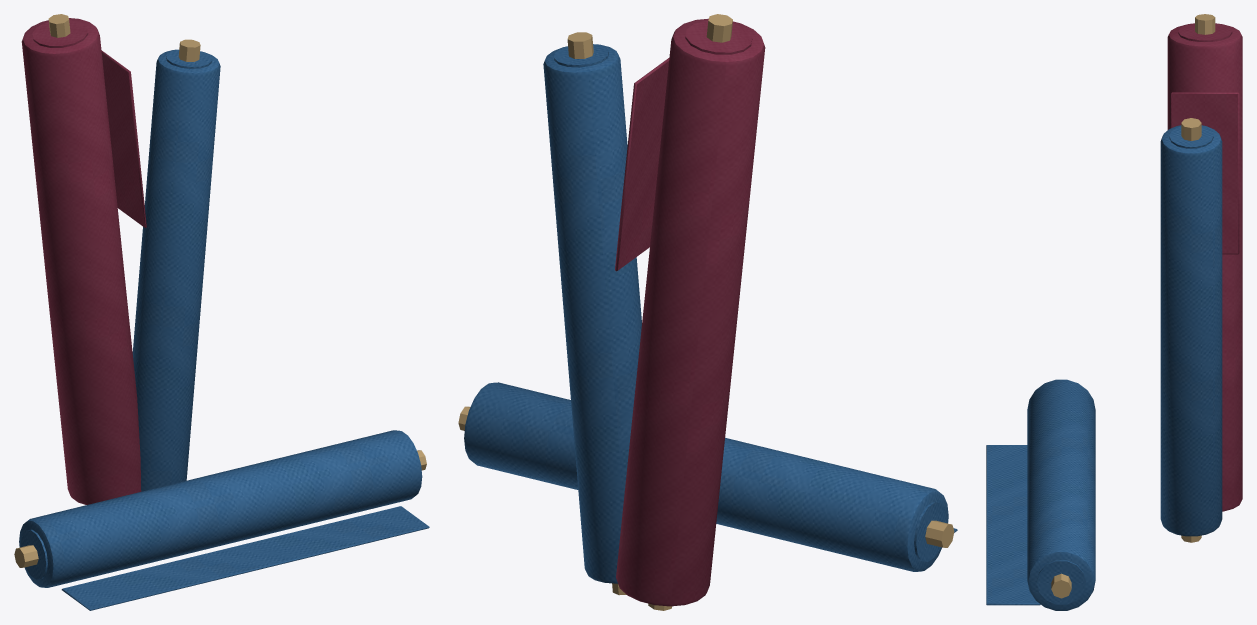
The model's file is rolos-de-tecido.glb.
3 views of the same model, side by side, from view 1: azimuth 30°, elevation 25°; view 2: azimuth 150°, elevation 25°; view 3: azimuth 270°, elevation 25° (orthographic). The views are drawn at different scales.
Parts seen in each view (by area): view 1: rolo-alto, rolo-deitado, rolo-medio, ponta-solta, ponta-pendurada, rolo-alto-volta, rolo-deitado-volta, rolo-deitado-miolo; view 2: rolo-alto, rolo-medio, rolo-deitado, ponta-pendurada, rolo-alto-volta, rolo-deitado-volta, rolo-deitado-miolo, rolo-alto-miolo, rolo-medio-miolo, rolo-medio-volta; view 3: rolo-medio, rolo-deitado, rolo-alto, ponta-solta, ponta-pendurada, rolo-deitado-volta, rolo-alto-volta, rolo-medio-volta, rolo-medio-miolo, rolo-deitado-miolo, rolo-alto-miolo.
Boxes of the visible parts, x1,y1,x2,y2 form: rolo-alto: (21,18,141,504); rolo-deitado: (19,430,422,587); rolo-medio: (132,49,220,491); ponta-solta: (61,506,429,610); ponta-pendurada: (101,50,146,227); rolo-alto-volta: (32,19,88,47); rolo-deitado-volta: (20,529,47,579); rolo-deitado-miolo: (14,450,426,567); rolo-alto: (616,18,765,606); rolo-medio: (543,44,641,583); rolo-deitado: (464,382,948,571); ponta-pendurada: (615,58,669,271); rolo-alto-volta: (685,21,752,54); rolo-deitado-volta: (914,502,946,561); rolo-deitado-miolo: (458,406,954,547); rolo-alto-miolo: (648,14,732,610); rolo-medio-miolo: (567,32,626,595); rolo-medio-volta: (554,44,608,67); rolo-medio: (1160,125,1222,536); rolo-deitado: (1027,379,1095,610); rolo-alto: (1167,23,1242,511); ponta-solta: (986,445,1040,605); ponta-pendurada: (1171,92,1239,254); rolo-deitado-volta: (1037,560,1085,604); rolo-alto-volta: (1178,23,1232,41); rolo-medio-volta: (1169,126,1213,148); rolo-medio-miolo: (1181,118,1201,542); rolo-deitado-miolo: (1051,573,1071,598); rolo-alto-miolo: (1195,14,1215,34).
Size of the model in its own units: 1.3 by 1.55 by 0.75.
Materials: 3 (2 with a texture image).
